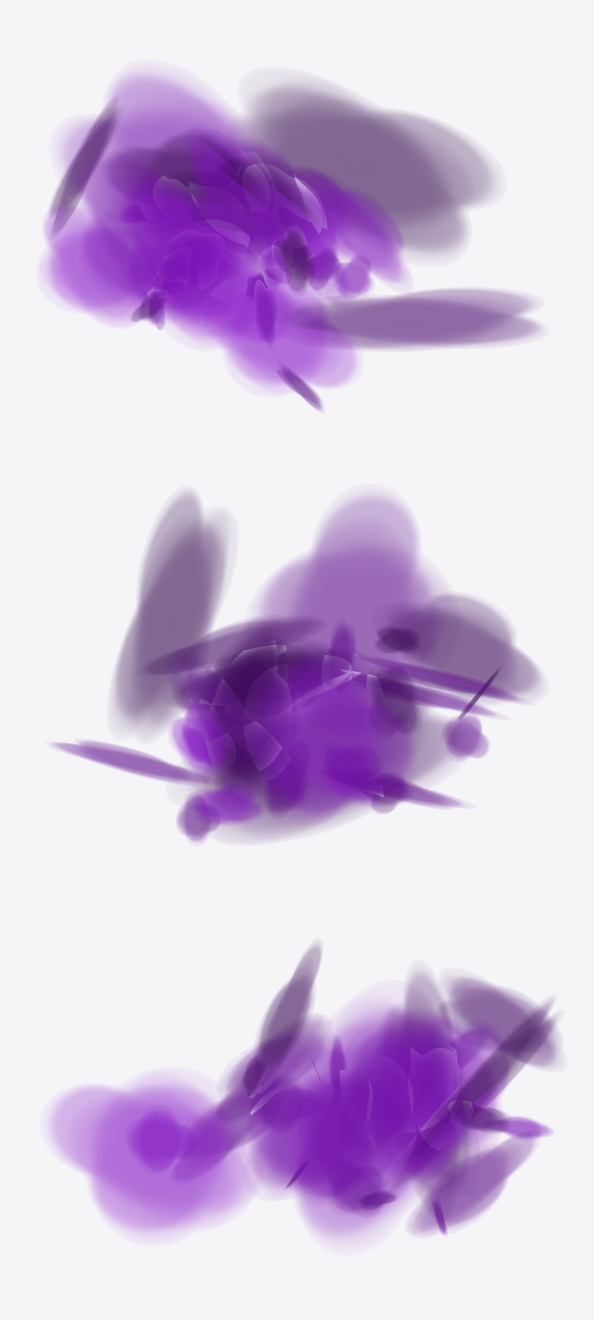
Rendered from track4Dust.glb.
3 renders of one model, top to bottom at view 1: azimuth 30°, elevation 25°; view 2: azimuth 150°, elevation 25°; view 3: azimuth 270°, elevation 25°, orthographic. The views are drawn at different scales.
Parts seen in each view (by area): view 1: smoke; view 2: smoke; view 3: smoke.
Boxes of the visible parts, x1,y1,x2,y2 form: smoke: [44, 73, 539, 409]; smoke: [53, 493, 540, 841]; smoke: [50, 945, 558, 1238].
Size of the model in its own units: 1.45 by 1.16 by 1.77.
1 material, 1 textured.
